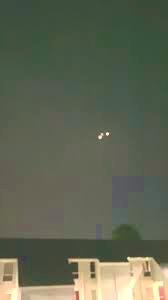Plane: (91, 121, 116, 146)
